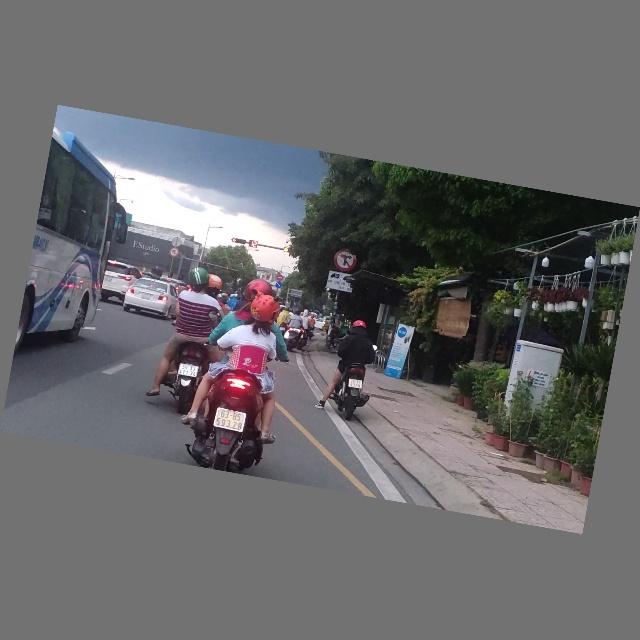P.102: (276, 274, 284, 282)
P.124a*: (168, 247, 180, 259)
P.137: (331, 247, 359, 275)
R.302a: (274, 281, 282, 289)
